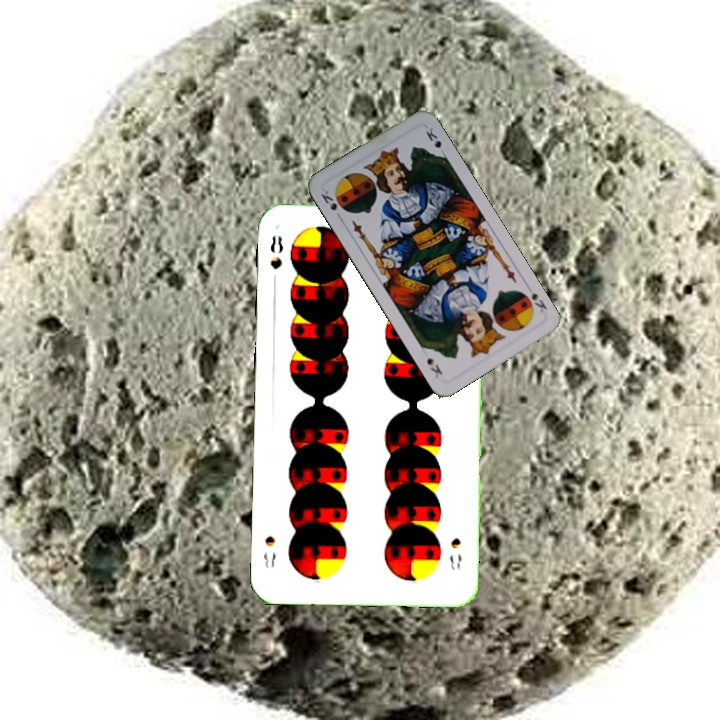S8: (266, 232, 286, 288), (446, 533, 465, 572)
SK: (317, 186, 347, 214), (527, 288, 550, 315)
